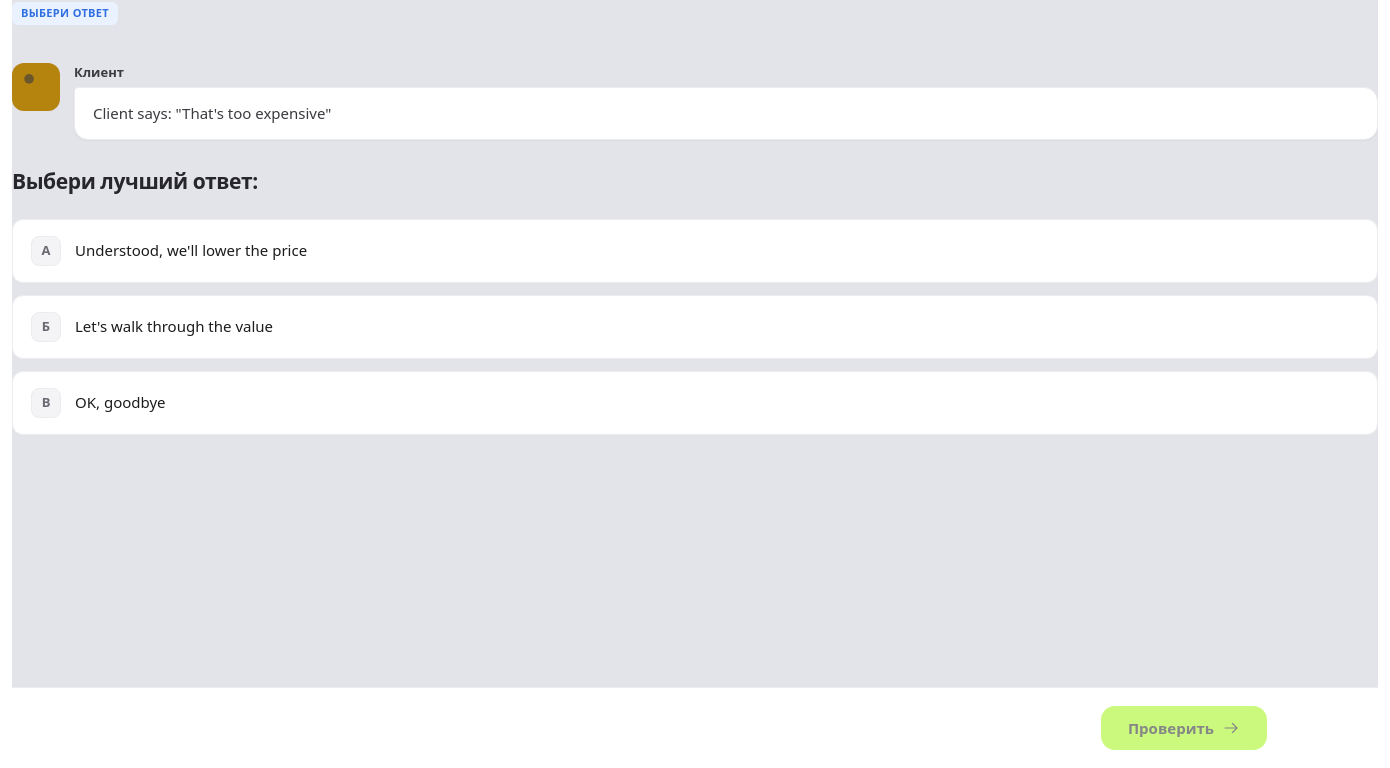
Test: ChooseOptionExercise › submit button is disabled until an option is selected
Expected: the button "Проверить" is disabled, top-left (1101, 706), bottom-right (1267, 750)
Click the text "Let's walk through the value": (174, 326) top-left (75, 316), bottom-right (273, 336)
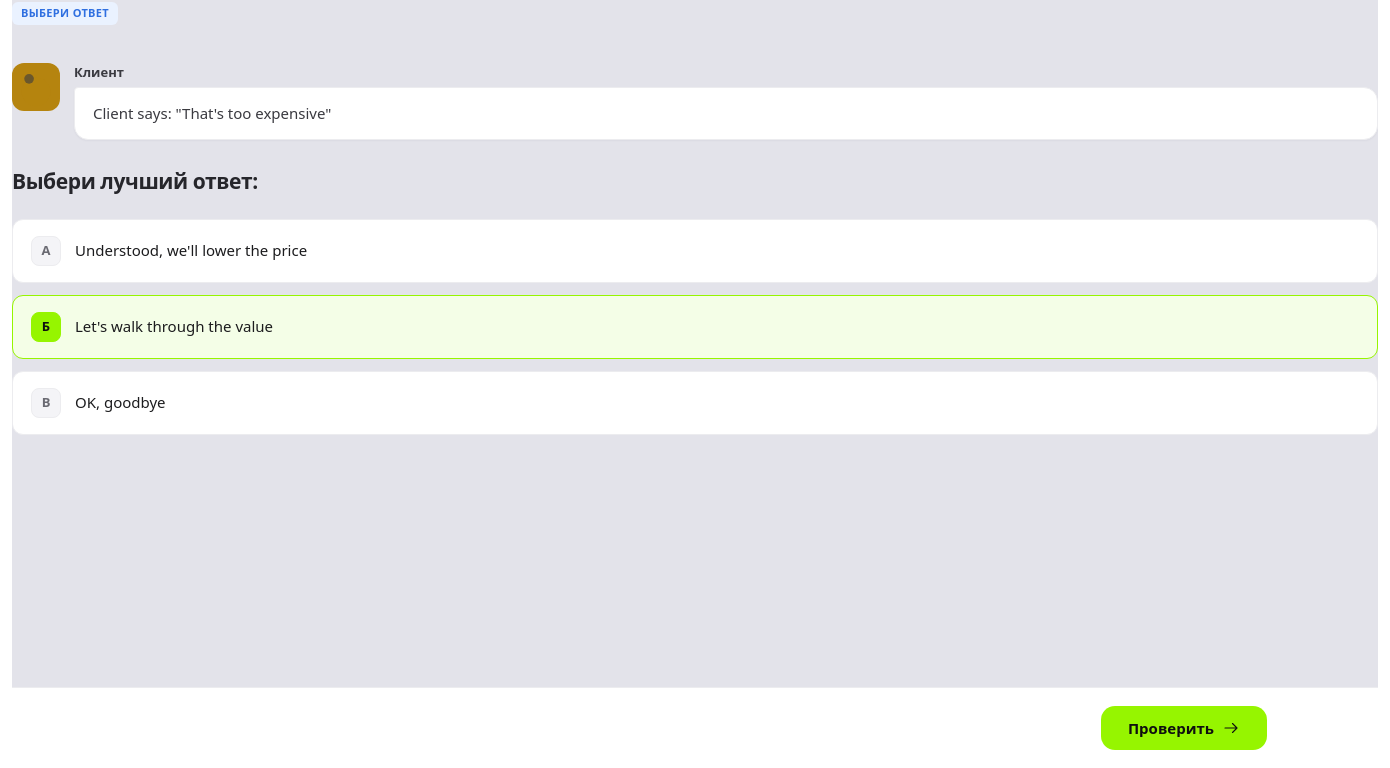
Now the button "Проверить" is enabled, box top-left (1101, 706), bottom-right (1267, 750)
